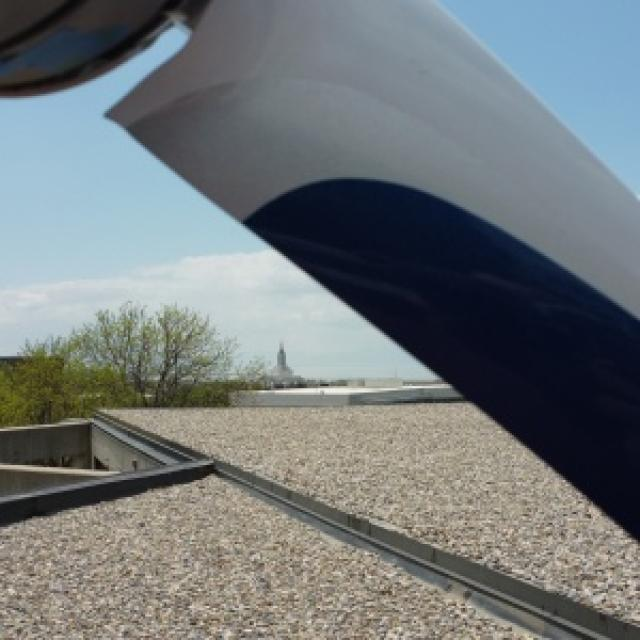healthy: (0, 0, 638, 535)
